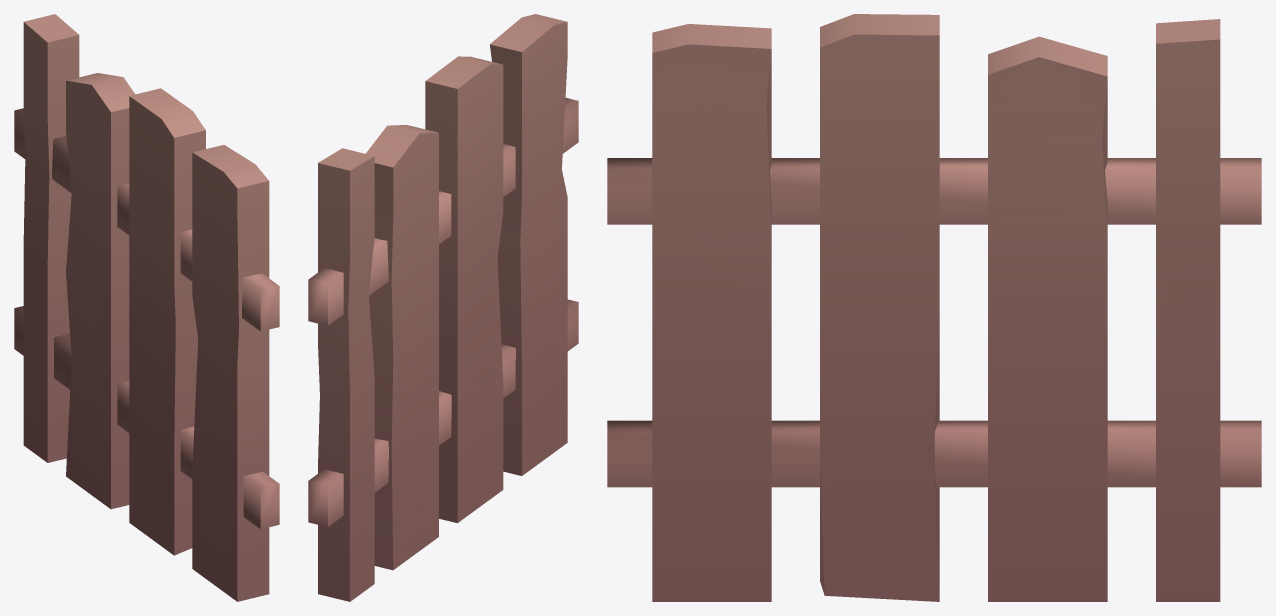
The model's file is Fence_side.glb.
3 renders of one model, left to right at view 1: azimuth 30°, elevation 25°; view 2: azimuth 150°, elevation 25°; view 3: azimuth 270°, elevation 25°, orthographic. The views are drawn at different scales.
Parts seen in each view (by area): view 1: Fence_side; view 2: Fence_side; view 3: Fence_side.
Boxes of the visible parts, box(x1,y1,x2,y2) form: Fence_side: box(14, 14, 279, 601); Fence_side: box(308, 14, 578, 601); Fence_side: box(607, 14, 1261, 601).
Size of the model in its own units: 0.034 by 0.4377 by 0.4574.
Materials: 1 (1 with a texture image).
